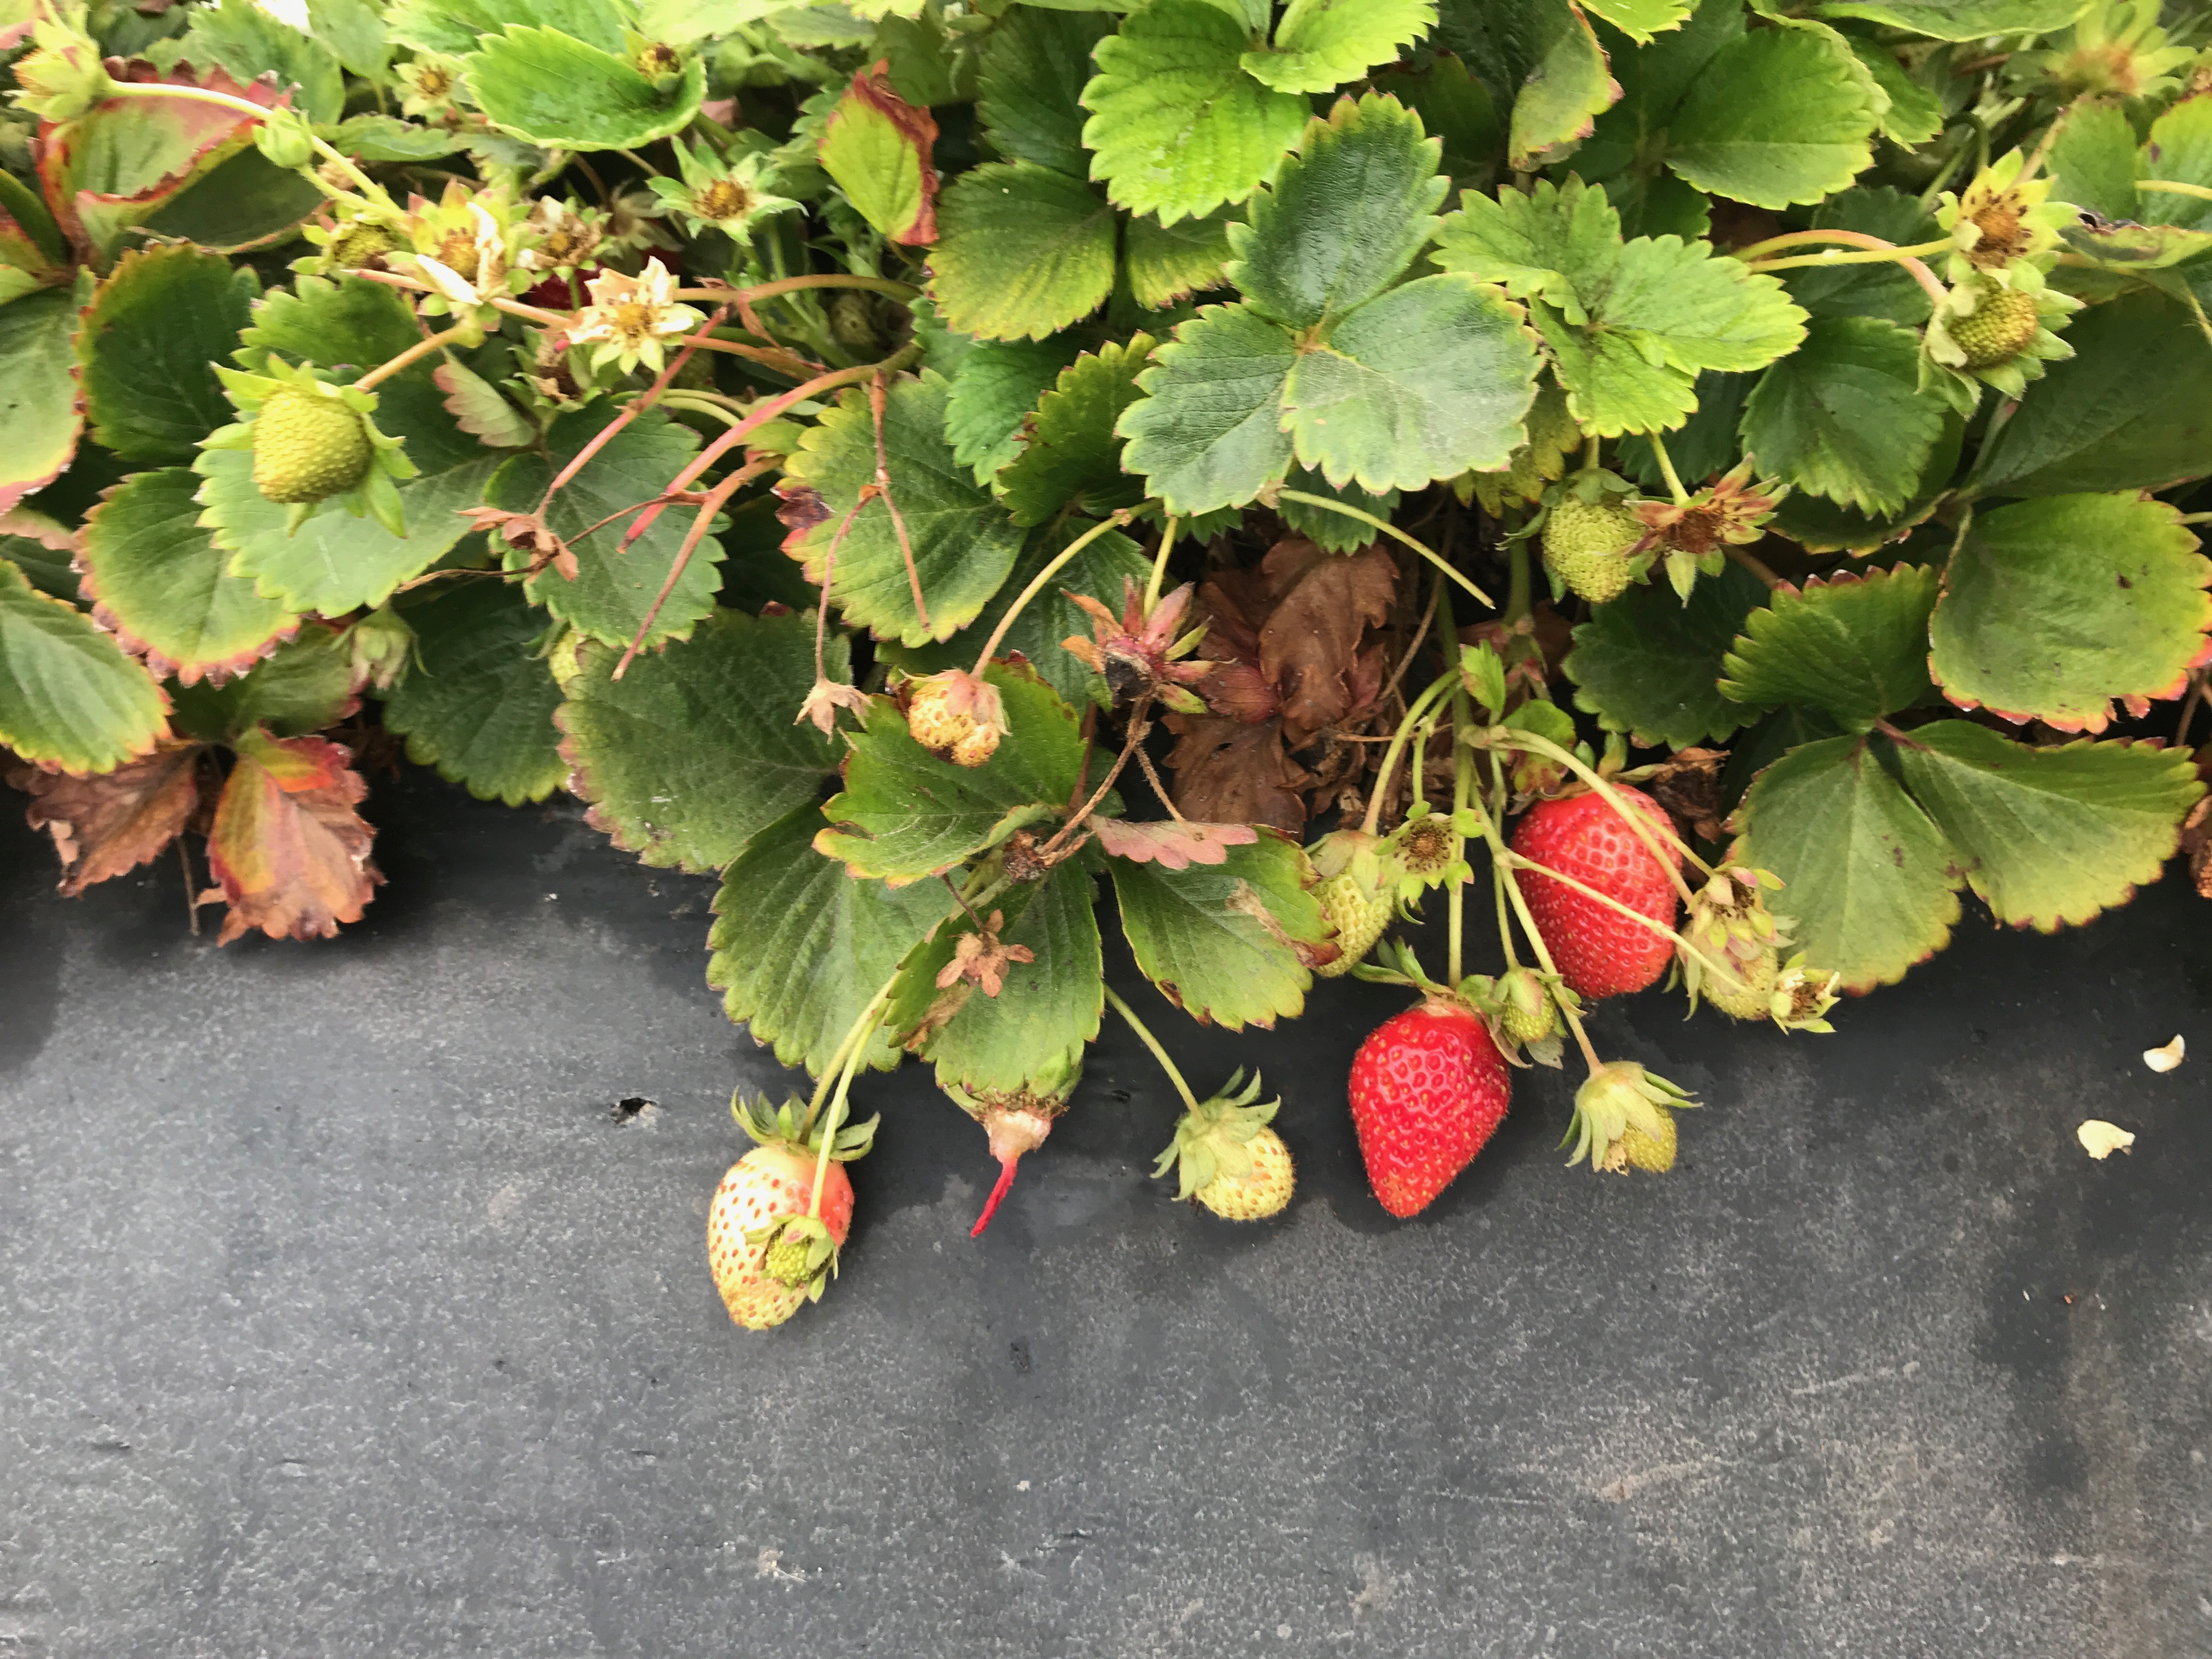ripe_strawberry: (1339, 992, 1522, 1223), (1505, 775, 1689, 1004)
unripe_strawberry: (704, 1124, 866, 1340), (239, 376, 387, 519), (1169, 1093, 1310, 1229), (1540, 472, 1665, 610), (1679, 892, 1784, 1028), (1932, 279, 2059, 390), (1576, 1065, 1684, 1178), (906, 666, 1008, 774), (1489, 965, 1564, 1046), (763, 1213, 838, 1291)
